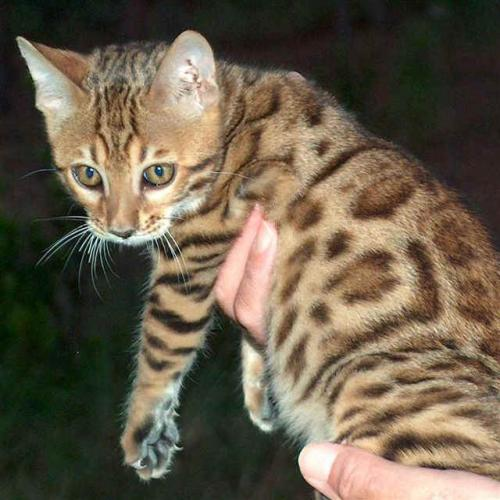bengal: (12, 21, 237, 251)
